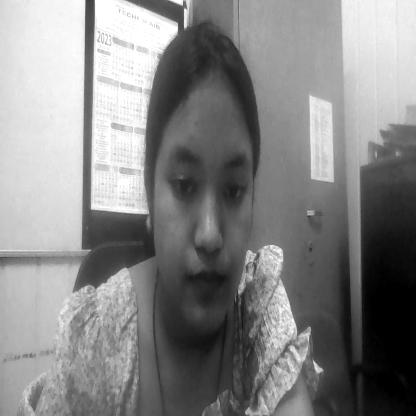Normal: (159, 107, 254, 334)
